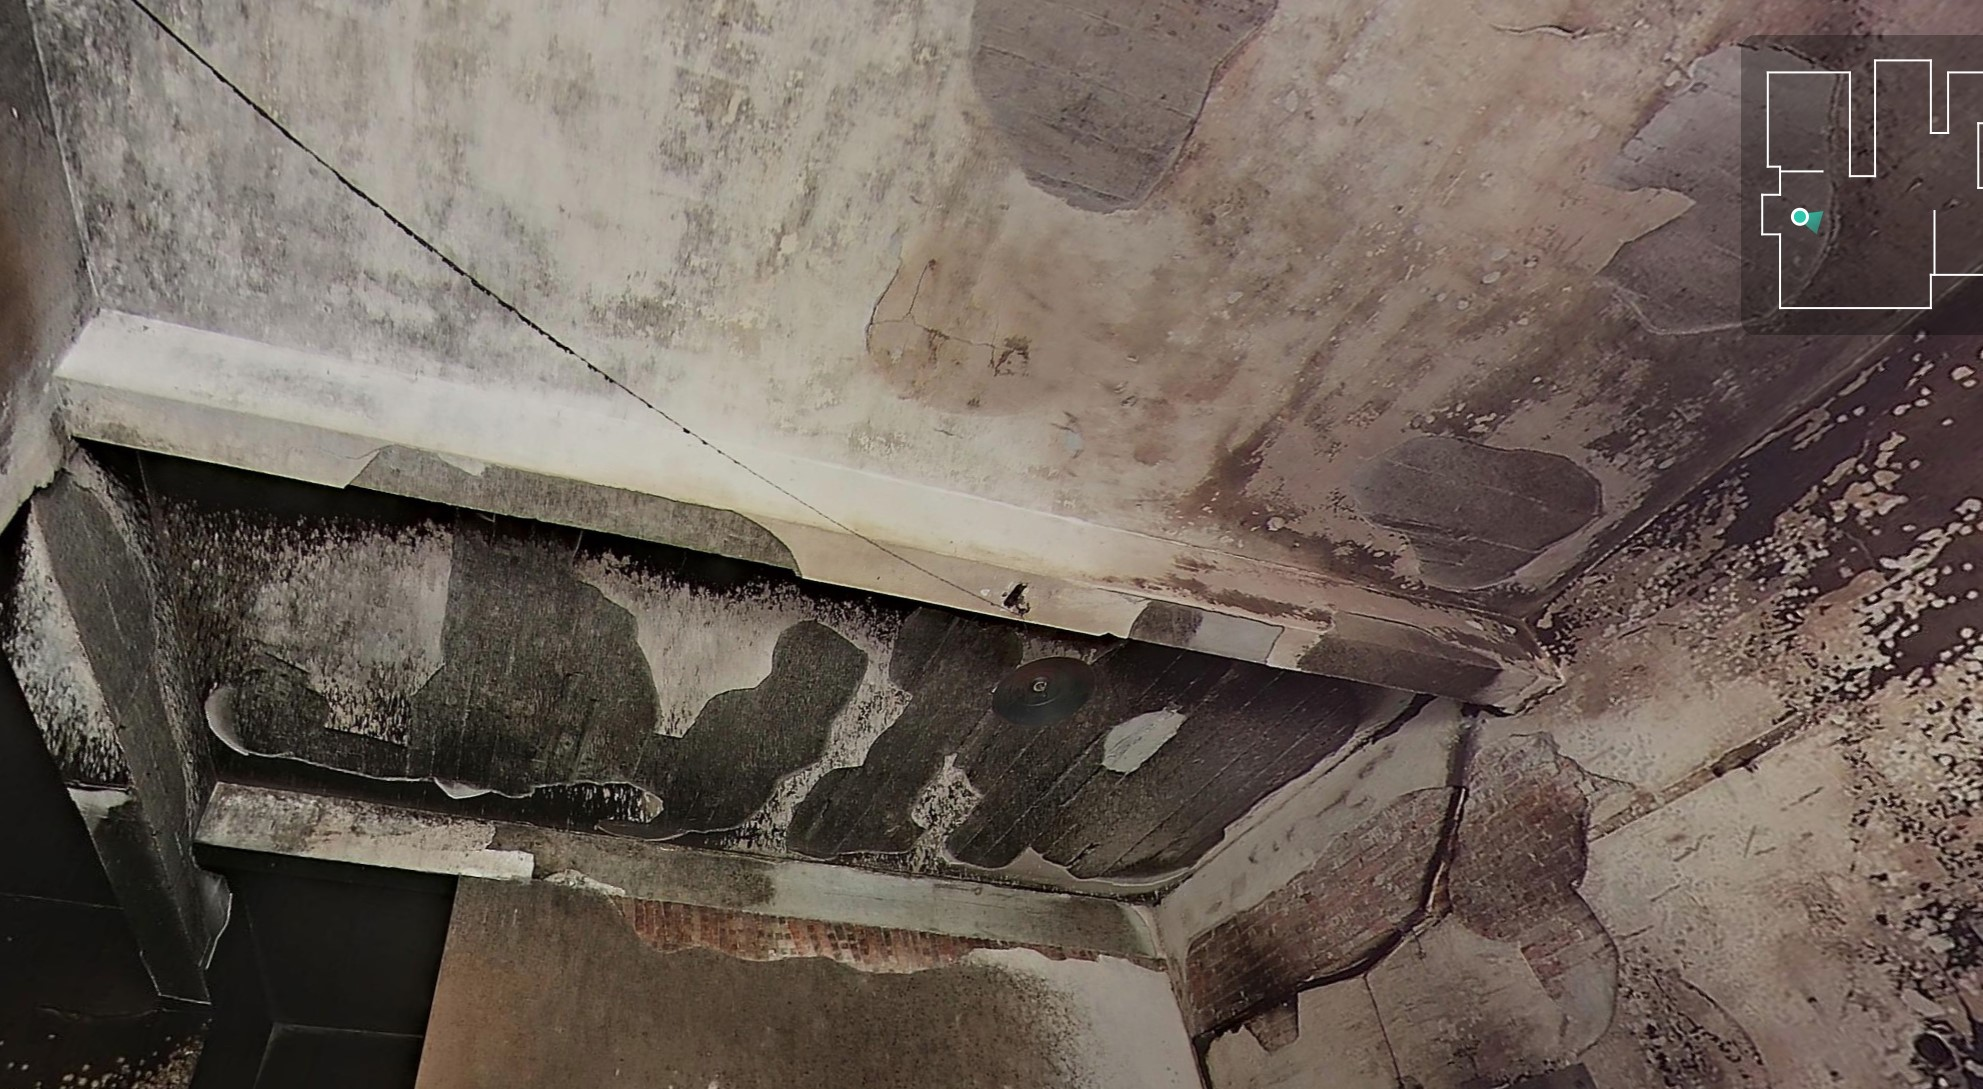Damage_level1: (58, 24, 656, 376), (438, 891, 1044, 1076), (20, 911, 135, 1005)
Damage_level2: (1601, 514, 1983, 852), (1205, 158, 1562, 405), (1016, 818, 1327, 1013), (1746, 373, 1945, 502), (24, 1021, 185, 1088), (1618, 376, 1696, 476)
Damage_level3: (857, 274, 1014, 409)
Damage_level4: (40, 514, 642, 793), (700, 620, 1252, 900), (1183, 826, 1597, 1010), (1589, 35, 1819, 349), (926, 9, 1231, 172)
